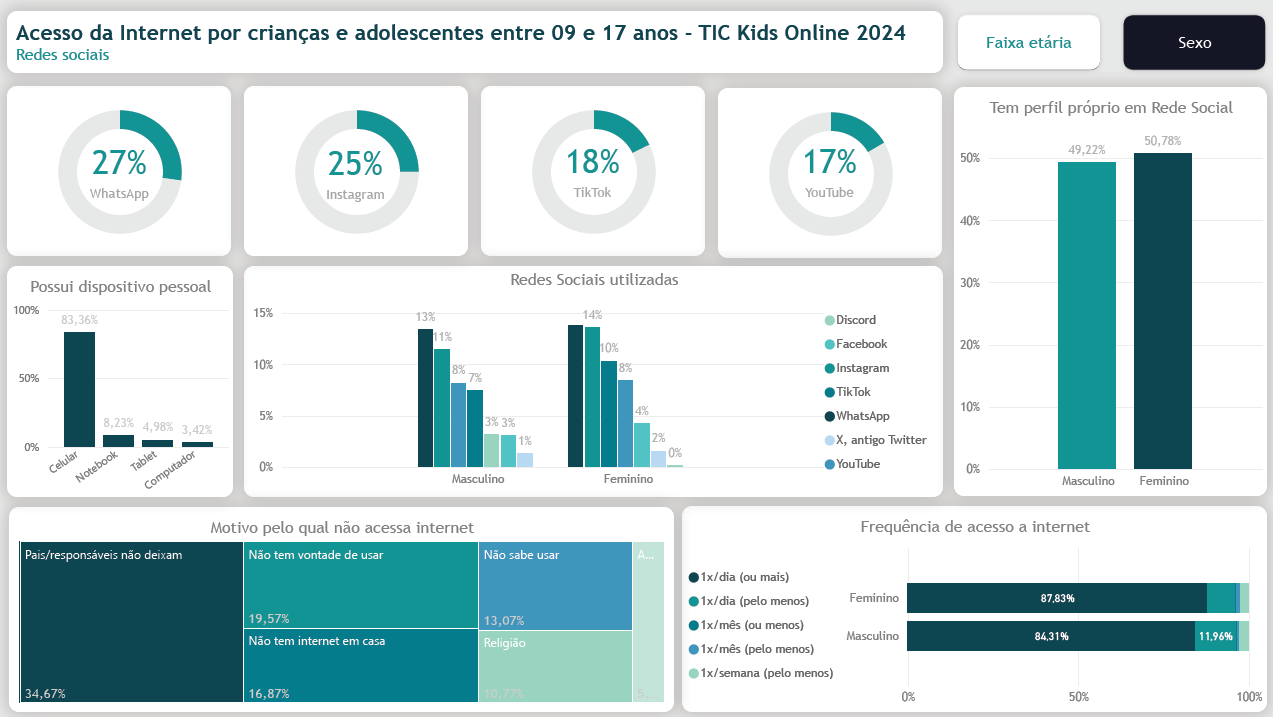

What the dashboard file says about the page in this screenshot:
{"tool":"powerbi","page":{"name":"Redes sociais","canvas":[1280,720],"ordinal":1},"visuals":[{"type":"donutChart","fields":{"Y":["Redes sociais utsadas.PctSimWpp","Redes sociais utsadas.CompWpp"]},"box":[13.3,85.7,224,170],"z":0},{"type":"donutChart","fields":{"Y":["Redes sociais utsadas.PctSimTikTok","Redes sociais utsadas.CompTiktok"]},"box":[486.8,86.1,224,170],"z":1000},{"type":"hundredPercentStackedBarChart","title":"Frequência de acesso a internet","fields":{"Category":["1 Frequencia de uso.Categoria"],"Y":["Divide(Sum(1 Frequencia de uso.Quantidade), ScopedEval(Sum(1 Frequencia de uso.Quantidade), []))"],"Series":["1 Frequencia de uso.FrequenciaUso"]},"box":[688.5,506.2,584.6,206.2],"z":2000},{"type":"donutChart","fields":{"Y":["Redes sociais utsadas.PctSimYT","Redes sociais utsadas.CompYT"]},"box":[723.5,87.5,224,170],"z":3000},{"type":"card","fields":{"Values":["Redes sociais utsadas.PctSimTikTok"]},"box":[485.8,100.8,225,135],"z":4000},{"type":"clusteredColumnChart","title":"Redes Sociais utilizadas","fields":{"Y":["Sum(Redes sociais utsadas.Valor)"],"Category":["Redes sociais utsadas.Categoria"],"Series":["Redes sociais utsadas.Rede social"]},"box":[250,266.4,699.1,230.9],"z":5000},{"type":"card","fields":{"Values":["Redes sociais utsadas.PctSimWpp"]},"box":[12.9,102.3,225,135],"z":6000},{"type":"card","fields":{"Values":["Redes sociais utsadas.PctSimPorRede"]},"box":[723.1,101.3,225,135],"z":7000},{"type":"donutChart","fields":{"Y":["Redes sociais utsadas.PctSimIg","Redes sociais utsadas.CompIg"]},"box":[250.1,86.1,224,170],"z":8000},{"type":"card","fields":{"Values":["Redes sociais utsadas.PctSimIg"]},"box":[248.5,102.7,225,135],"z":9000},{"type":"clusteredColumnChart","title":"Tem perfil próprio em Rede Social","fields":{"Category":["2a Tem perfil proprio em rede s.Categoria"],"Y":["Sum(2a Tem perfil proprio em rede s.Valor)"]},"box":[960.2,87.2,312.7,409.1],"z":10000},{"type":"treemap","title":"Motivo pelo qual não acessa internet","fields":{"Group":["1 MotivoNaoAcessar.MotivoNaoAcessar"],"Values":["Sum(1 MotivoNaoAcessar.Quantidade)"]},"box":[14.6,506.9,665.4,205.4],"z":12000},{"type":"columnChart","title":"Possui dispositivo pessoal","fields":{"Category":["1 PossuiDispositivo1.DispositivoPessoal"],"Y":["Sum(1 PossuiDispositivo1.Quantidade)"]},"box":[12.5,266.5,226.4,230.9],"z":13000},{"type":"textbox","box":[12.9,11.4,935.7,61.4],"z":14000},{"type":"advancedSlicerVisual","fields":{"Values":["1 Ja acessou internet.TipoCategoria"]},"box":[956.6,8.3,323.4,68.8],"z":14001}]}

Visuals, with their boxes in screenshot pixels (x1, y1, x2, y2), scaled from the page's 1280x720 canvas onto the 1273x717 screenshot:
donutChart - Redes sociais utsadas.PctSimWpp x Redes sociais utsadas.CompWpp: {"left": 13, "top": 85, "right": 236, "bottom": 255}
donutChart - Redes sociais utsadas.PctSimTikTok x Redes sociais utsadas.CompTiktok: {"left": 484, "top": 86, "right": 707, "bottom": 255}
"Frequência de acesso a internet" hundredPercentStackedBarChart: {"left": 685, "top": 504, "right": 1266, "bottom": 709}
donutChart - Redes sociais utsadas.PctSimYT x Redes sociais utsadas.CompYT: {"left": 720, "top": 87, "right": 942, "bottom": 256}
card - Redes sociais utsadas.PctSimTikTok: {"left": 483, "top": 100, "right": 707, "bottom": 235}
"Redes Sociais utilizadas" clusteredColumnChart: {"left": 249, "top": 265, "right": 944, "bottom": 495}
card - Redes sociais utsadas.PctSimWpp: {"left": 13, "top": 102, "right": 237, "bottom": 236}
card - Redes sociais utsadas.PctSimPorRede: {"left": 719, "top": 101, "right": 943, "bottom": 235}
donutChart - Redes sociais utsadas.PctSimIg x Redes sociais utsadas.CompIg: {"left": 249, "top": 86, "right": 472, "bottom": 255}
card - Redes sociais utsadas.PctSimIg: {"left": 247, "top": 102, "right": 471, "bottom": 237}
"Tem perfil próprio em Rede Social" clusteredColumnChart: {"left": 955, "top": 87, "right": 1266, "bottom": 494}
"Motivo pelo qual não acessa internet" treemap: {"left": 15, "top": 505, "right": 676, "bottom": 709}
"Possui dispositivo pessoal" columnChart: {"left": 12, "top": 265, "right": 238, "bottom": 495}
textbox: {"left": 13, "top": 11, "right": 943, "bottom": 72}
advancedSlicerVisual - 1 Ja acessou internet.TipoCategoria: {"left": 951, "top": 8, "right": 1272, "bottom": 77}
